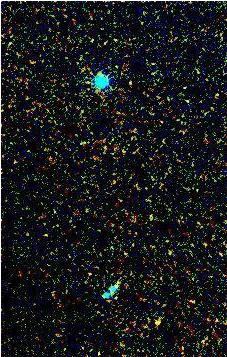star: (142, 308, 172, 338)
